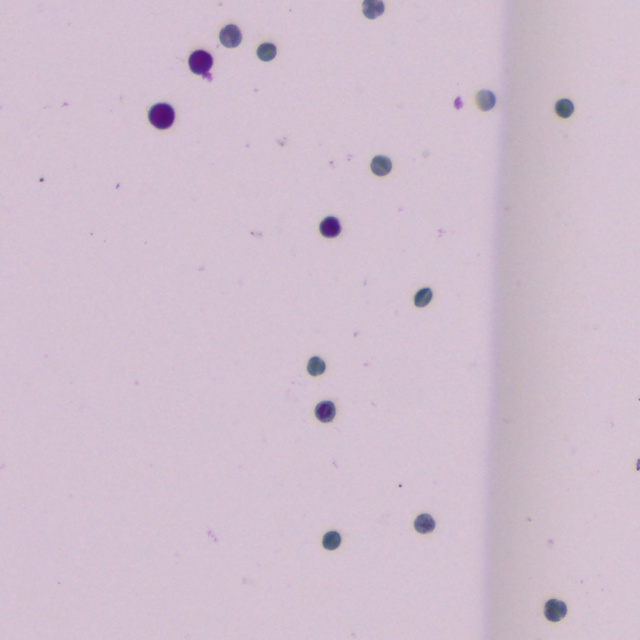non_viable: (219, 24, 241, 47), (544, 599, 566, 621), (371, 155, 391, 175), (476, 90, 496, 110), (315, 401, 335, 421), (414, 514, 434, 533), (363, 0, 384, 18), (307, 356, 325, 375), (257, 42, 276, 60), (414, 288, 432, 306), (555, 99, 573, 117), (322, 531, 340, 549)
viable: (149, 103, 174, 128), (189, 50, 212, 76), (320, 216, 340, 236)
